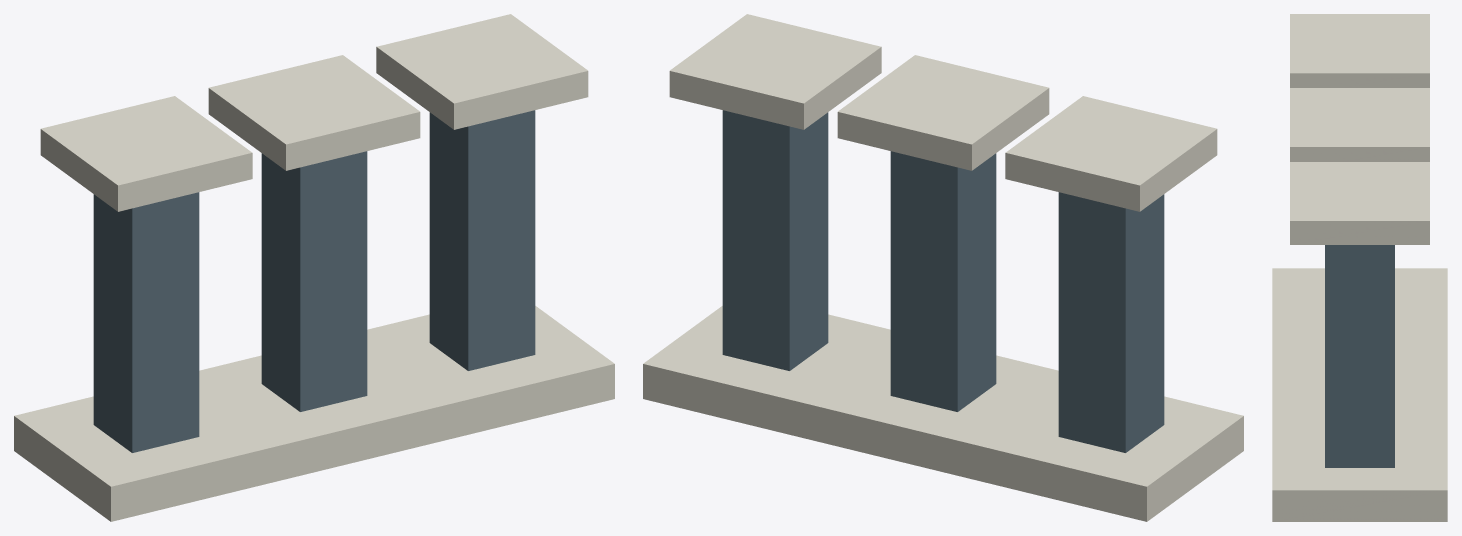
Rendered from voxel-city-districts-exhaust-bank-d72ee10c__24925.glb.
3 renders of one model, left to right at view 1: azimuth 30°, elevation 25°; view 2: azimuth 150°, elevation 25°; view 3: azimuth 270°, elevation 25°, orthographic. The views are drawn at different scales.
Visible parts, largest first — view 1: exhaust-bank-concrete, exhaust-bank-dark; view 2: exhaust-bank-concrete, exhaust-bank-dark; view 3: exhaust-bank-concrete, exhaust-bank-dark.
Part boxes in pixels (x1,y1,x2,y2): exhaust-bank-concrete: (14, 14, 614, 521); exhaust-bank-dark: (93, 110, 535, 452); exhaust-bank-concrete: (643, 14, 1243, 521); exhaust-bank-dark: (722, 110, 1164, 452); exhaust-bank-concrete: (1272, 14, 1447, 521); exhaust-bank-dark: (1325, 245, 1394, 467).
Bounding box in the file's own units: 3 × 1.85 × 0.9999.
